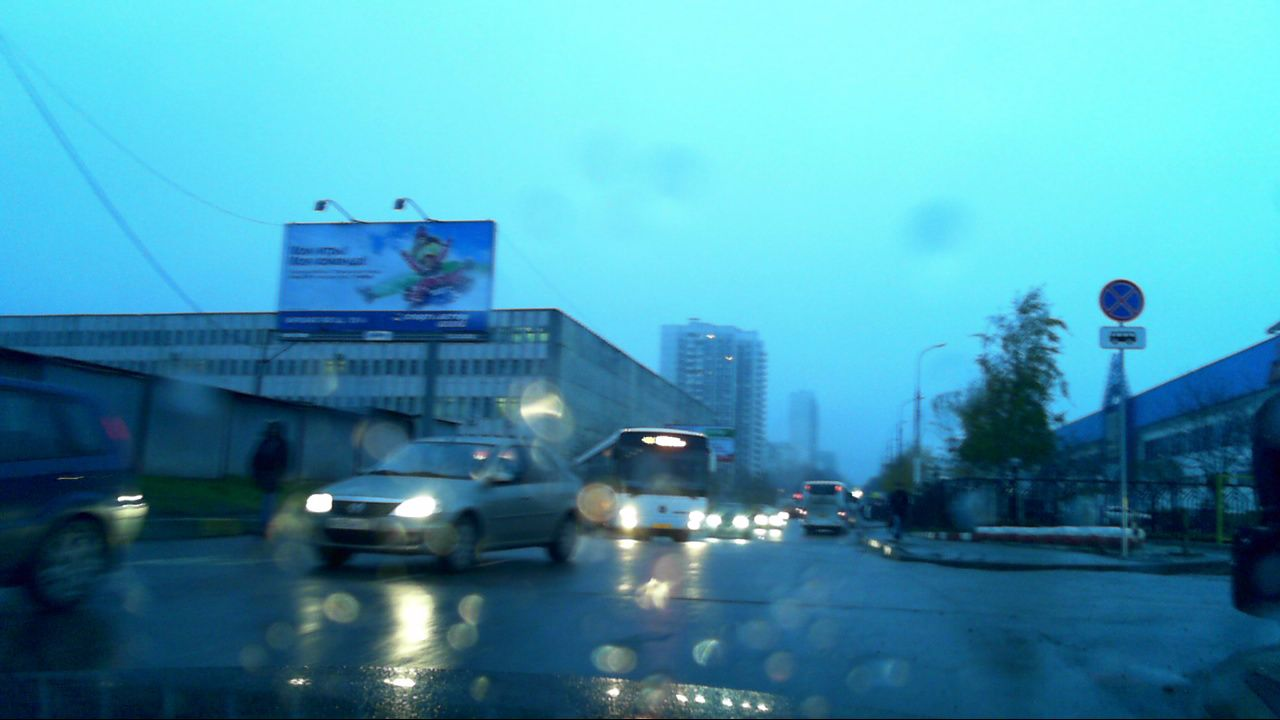No Parking: (1098, 278, 1145, 325)
